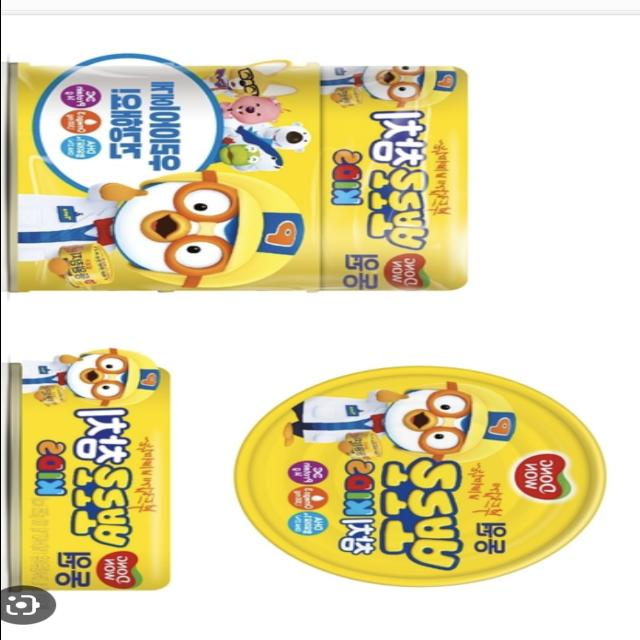can: (223, 327, 633, 606), (274, 55, 494, 308), (0, 342, 193, 601)
